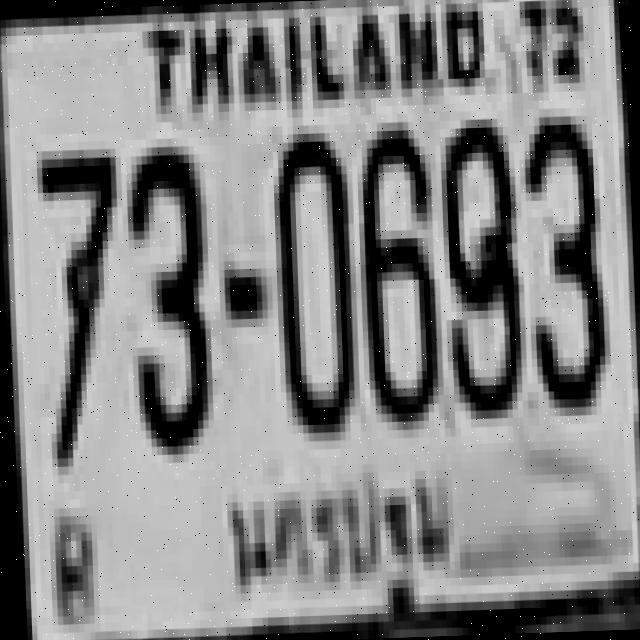0: (268, 124, 352, 426)
3: (122, 138, 212, 448), (520, 111, 604, 404)
6: (352, 121, 437, 422)
7: (34, 144, 122, 463), (33, 144, 119, 363)
9: (436, 118, 520, 411)
NakhonPathom: (205, 458, 470, 630)
